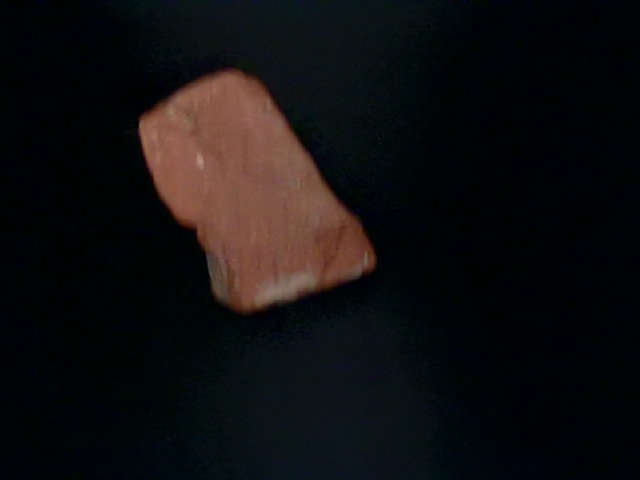KHSLJ: (128, 1, 616, 326)
